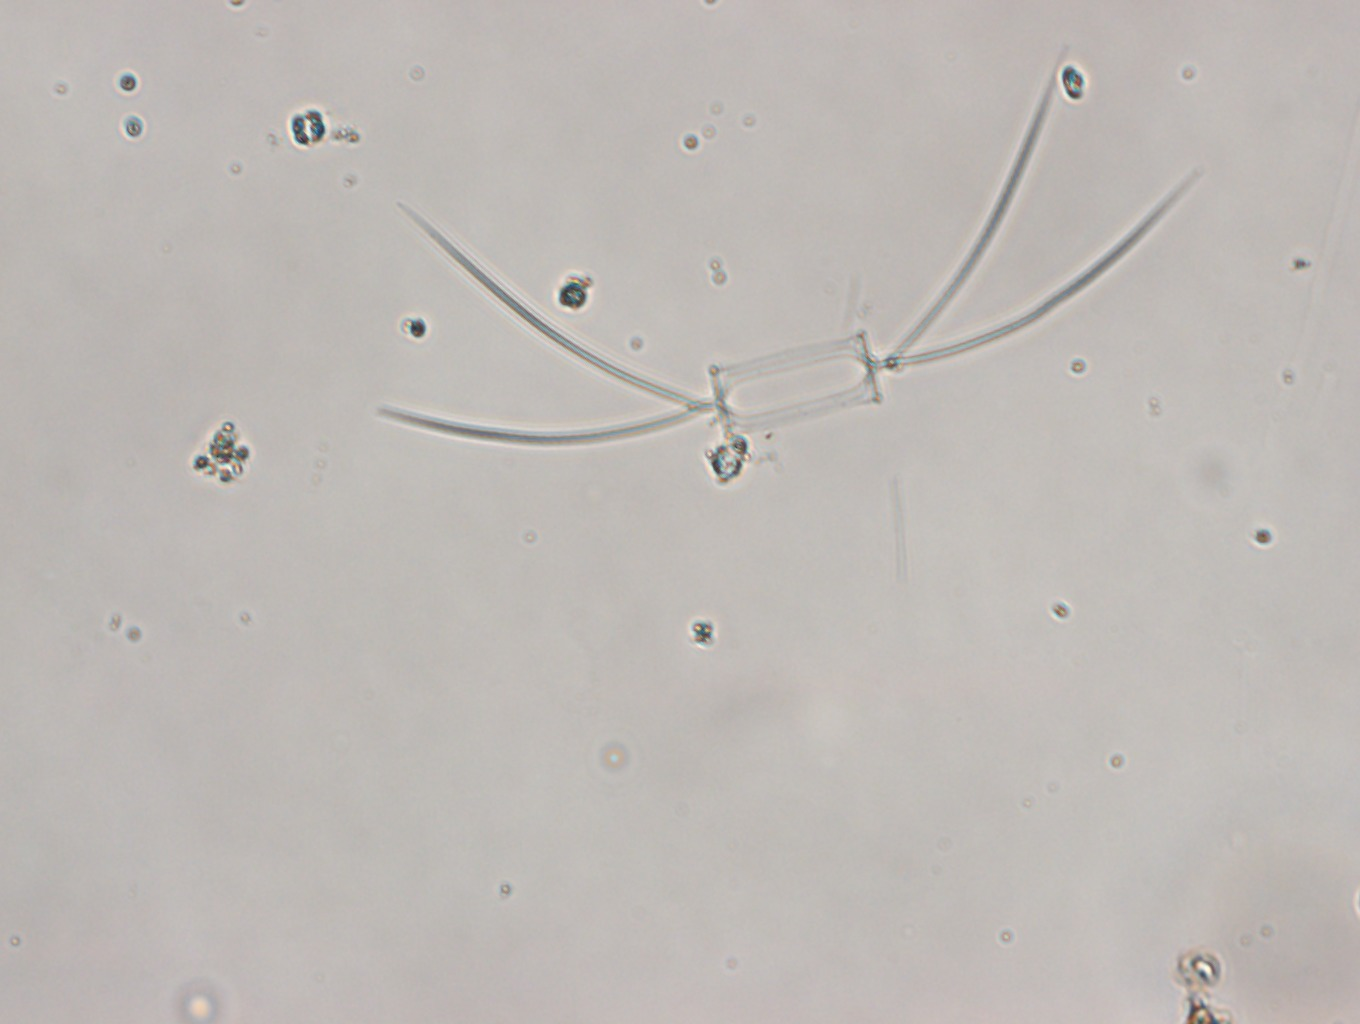chaetoceros: (377, 61, 1207, 470)
